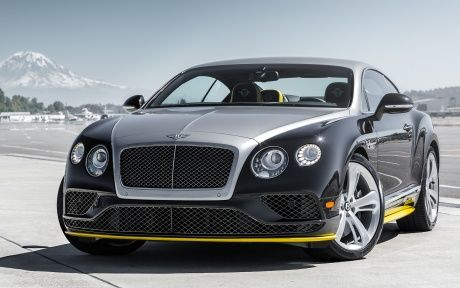other: (64, 56, 440, 255)
